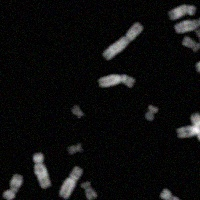chromosome: (103, 21, 144, 60), (59, 167, 83, 200), (99, 72, 135, 91), (32, 153, 50, 189), (1, 174, 22, 200), (173, 13, 200, 32), (168, 4, 197, 20), (176, 118, 200, 137), (81, 180, 98, 200), (189, 112, 200, 141), (160, 188, 183, 200), (182, 37, 200, 52), (71, 103, 84, 119), (145, 105, 158, 121), (68, 142, 82, 156), (196, 47, 200, 72), (195, 28, 200, 43), (199, 159, 200, 184)
